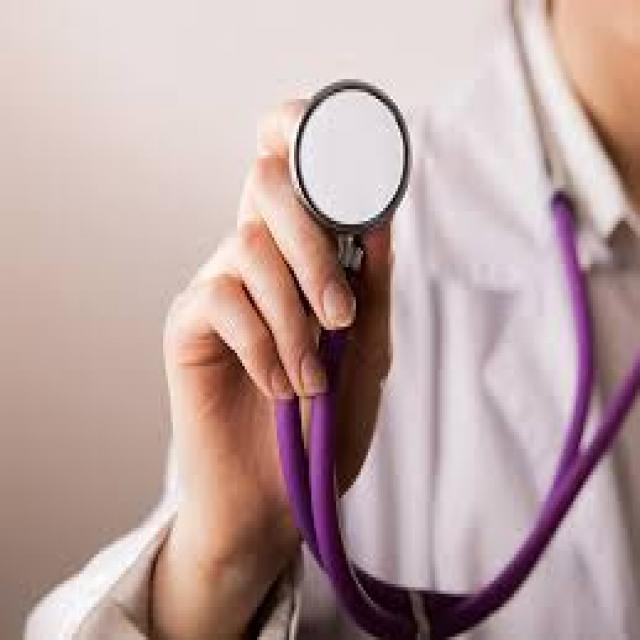stethoscope: (262, 56, 487, 536)
